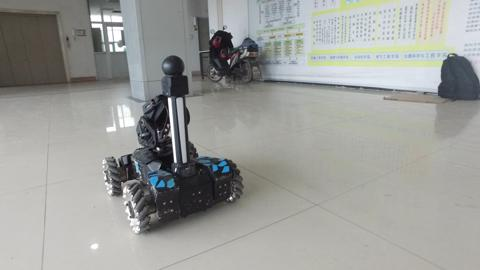bag: (434, 50, 479, 105)
chariot: (95, 51, 248, 233)
